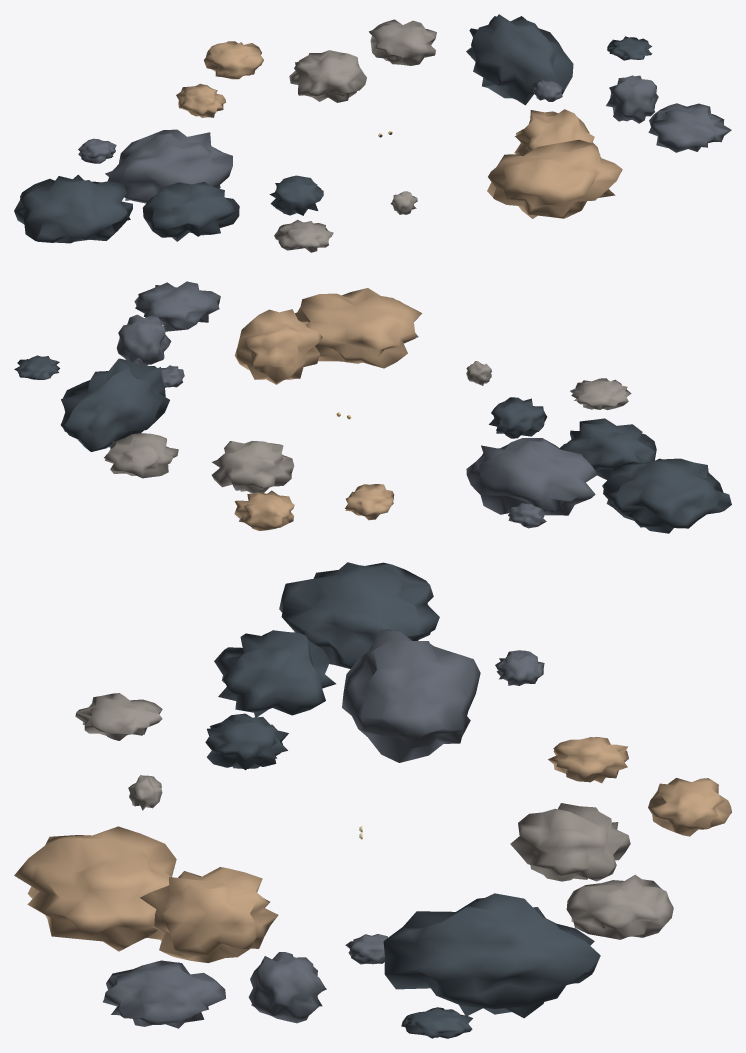
Rendered from 07_L92_AsteroidBoulderField.glb.
The picture shows the model from 3 angles, top to bottom: view 1: azimuth 30°, elevation 25°; view 2: azimuth 150°, elevation 25°; view 3: azimuth 270°, elevation 25°; orthographic projection. The views are drawn at different scales.
Visible parts, largest first — view 1: L92_AsteroidBoulderField; view 2: L92_AsteroidBoulderField; view 3: L92_AsteroidBoulderField.
Boxes of the visible parts, <box> form: L92_AsteroidBoulderField: <box>14,14,731,252</box>; L92_AsteroidBoulderField: <box>14,281,731,533</box>; L92_AsteroidBoulderField: <box>14,562,731,1038</box>.
Bounding box in the file's own units: 23.62 × 2.71 × 15.56.
